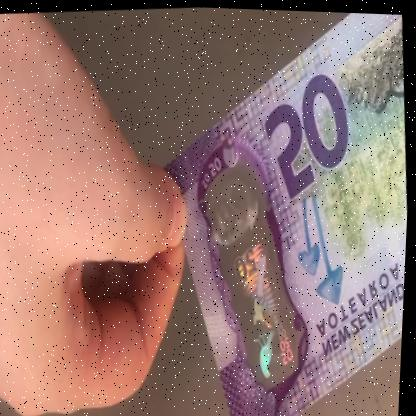50B: (209, 178, 305, 382)
